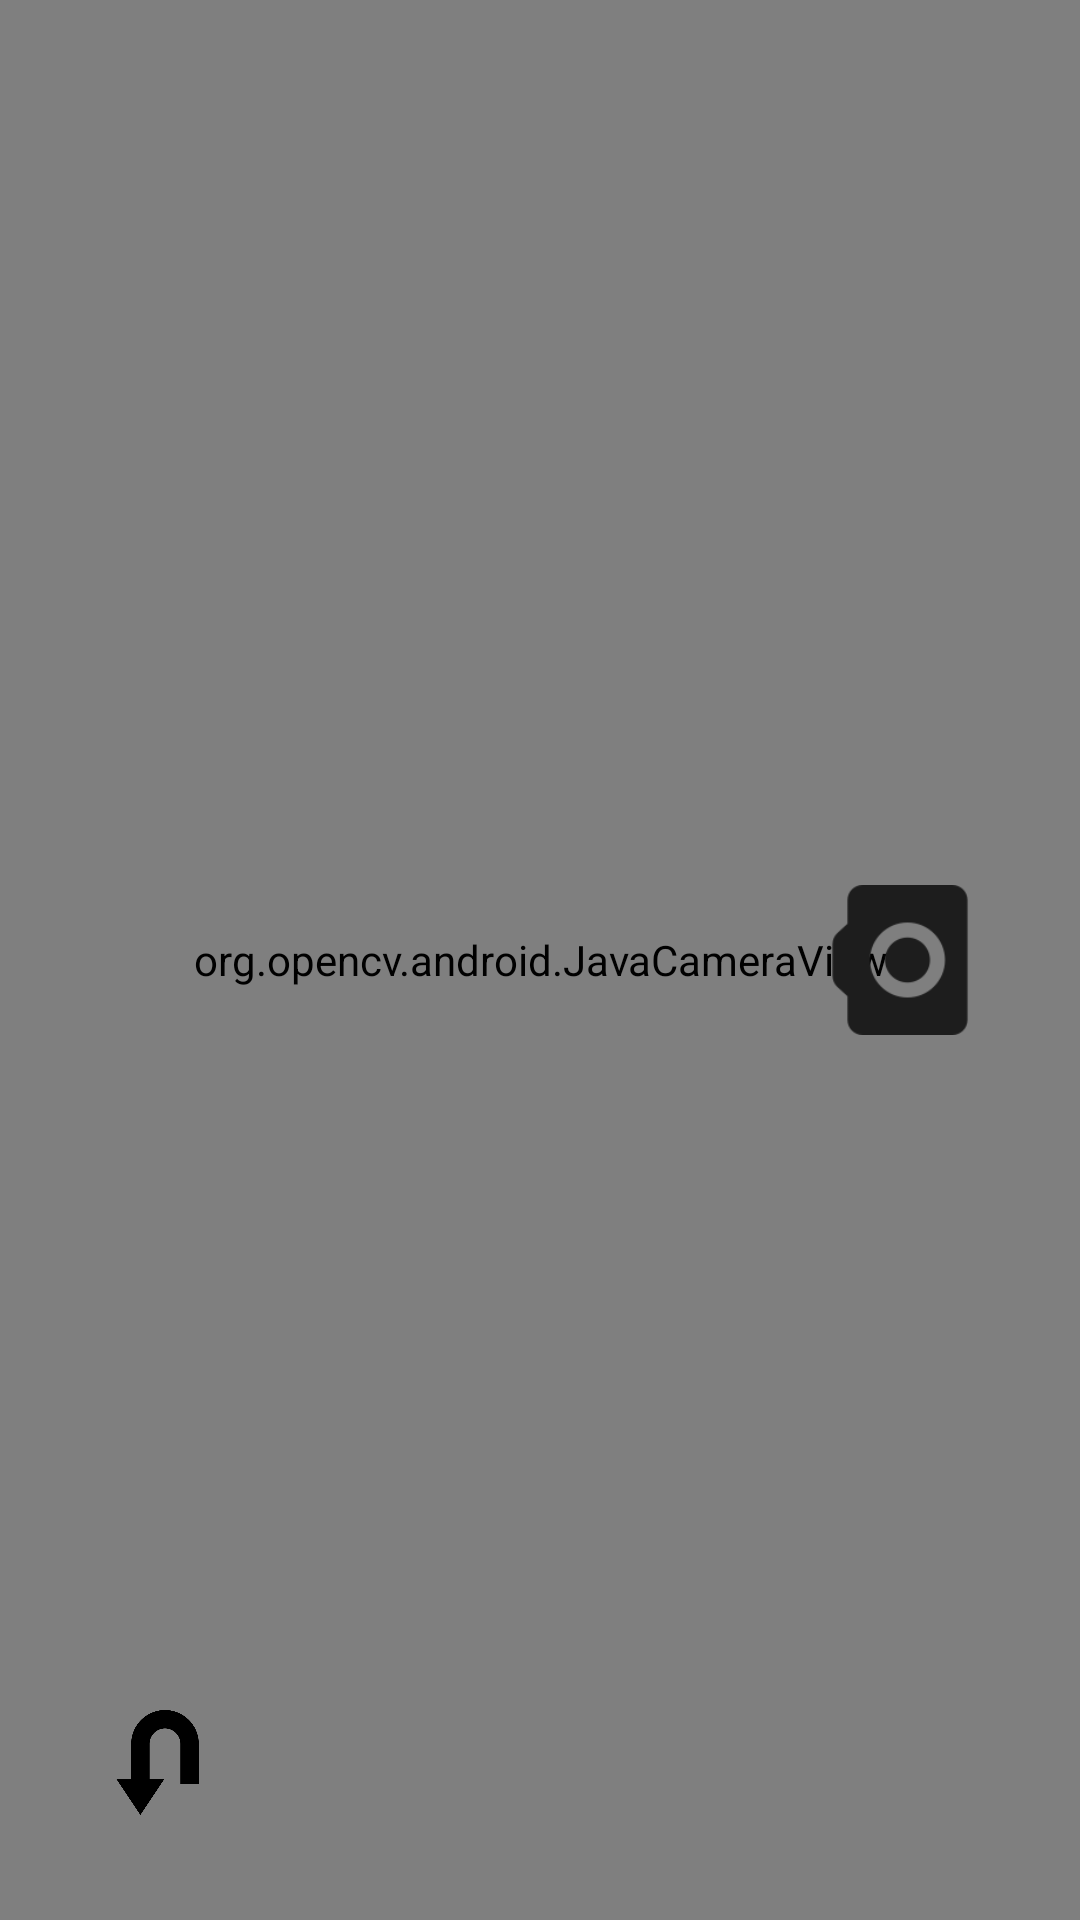

Icons on this 1080px×1920px Android screen, each with its box as (x1, y1, x2, y2):
back: (117, 1710, 199, 1815)
